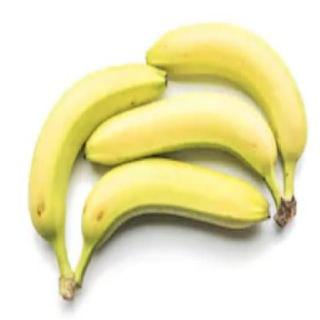banana: (27, 62, 170, 242), (143, 21, 310, 162), (80, 155, 270, 252), (84, 89, 278, 178)
